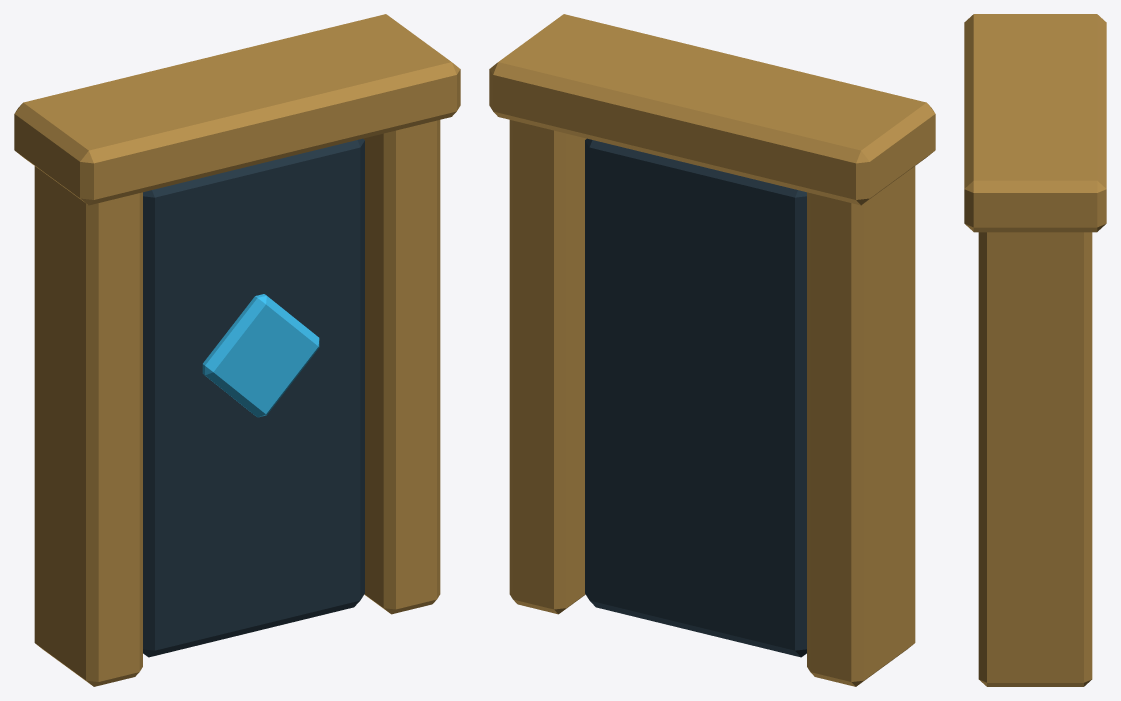
File: door-blue.glb
The picture shows the model from 3 angles, left to right: view 1: azimuth 30°, elevation 25°; view 2: azimuth 150°, elevation 25°; view 3: azimuth 270°, elevation 25°; orthographic projection. The views are drawn at different scales.
Parts seen in each view (by area): view 1: door-blue; view 2: door-blue; view 3: door-blue.
Boxes of the visible parts, left/top/right/bottom form: door-blue: left=14, top=14, right=460, bottom=686; door-blue: left=489, top=14, right=935, bottom=686; door-blue: left=964, top=14, right=1106, bottom=686.
Size of the model in its own units: 0.87 by 1.19 by 0.3.
